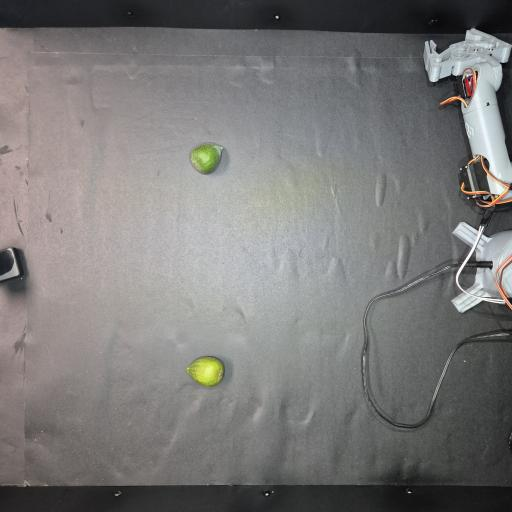higo: (186, 357, 224, 386), (190, 144, 222, 174)
